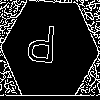P: (25, 25, 57, 72)
